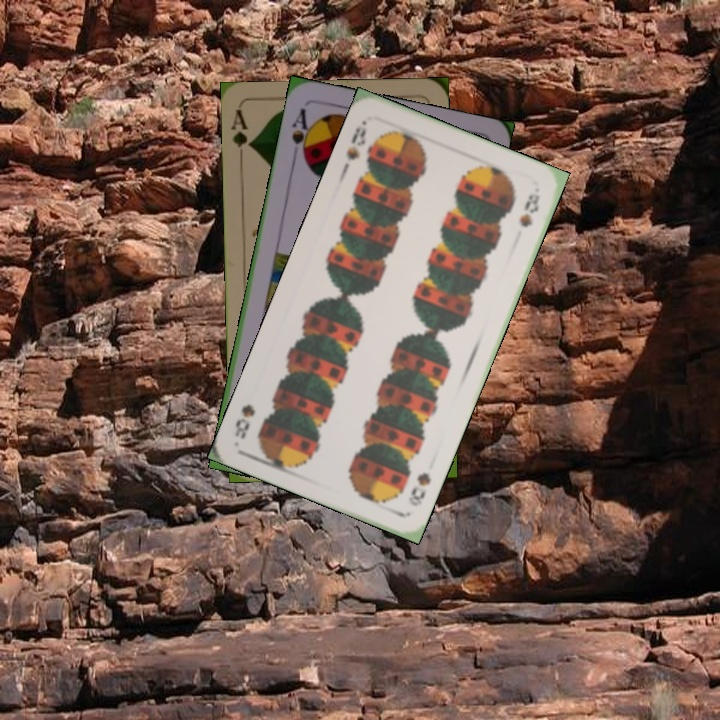GA: (228, 107, 256, 166)
S8: (342, 116, 370, 163), (404, 468, 434, 509)
SA: (287, 104, 316, 164)
